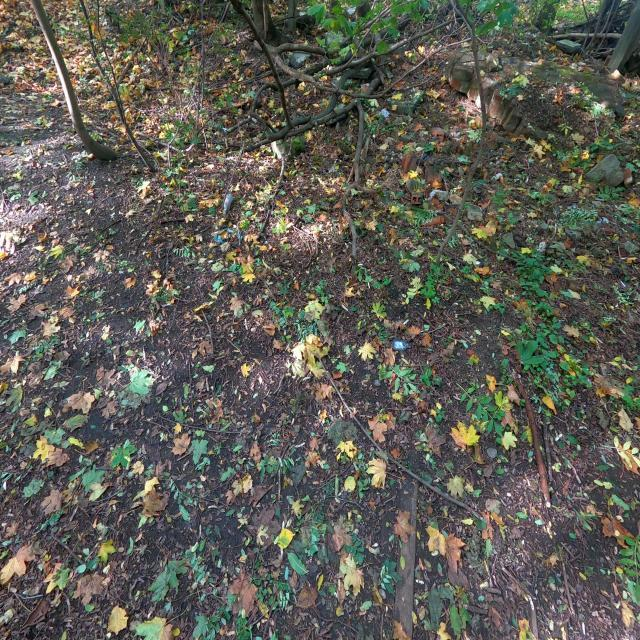rubbish: (214, 227, 244, 242), (391, 338, 412, 350), (223, 195, 234, 215), (377, 107, 392, 119)
